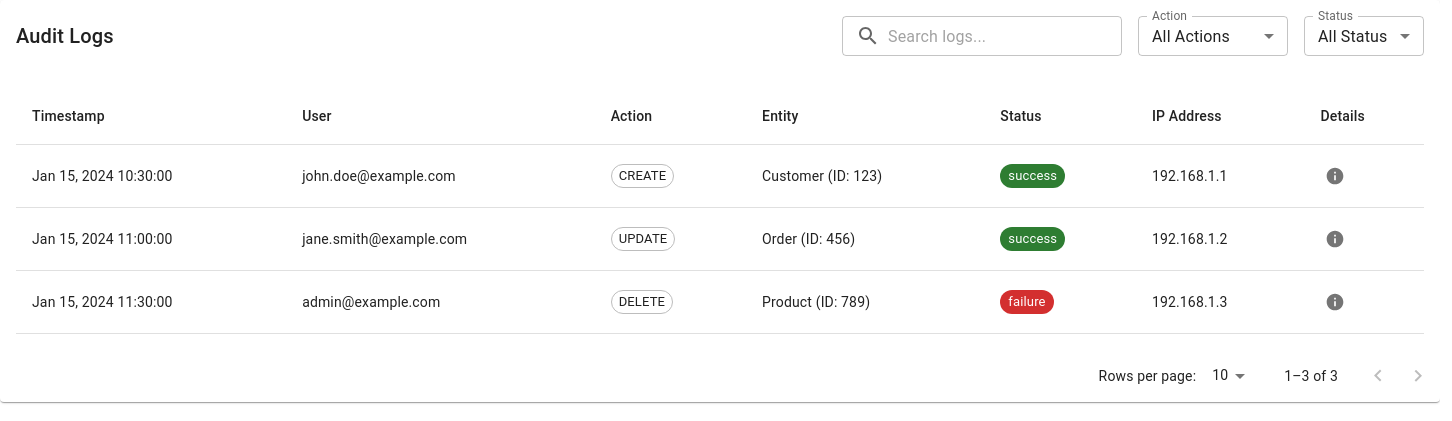
Test: AuditLogViewer › filters logs by search term
Type "john" into the field with placeholder "Search logs..." at (1005, 36), box [888,16,1122,56]
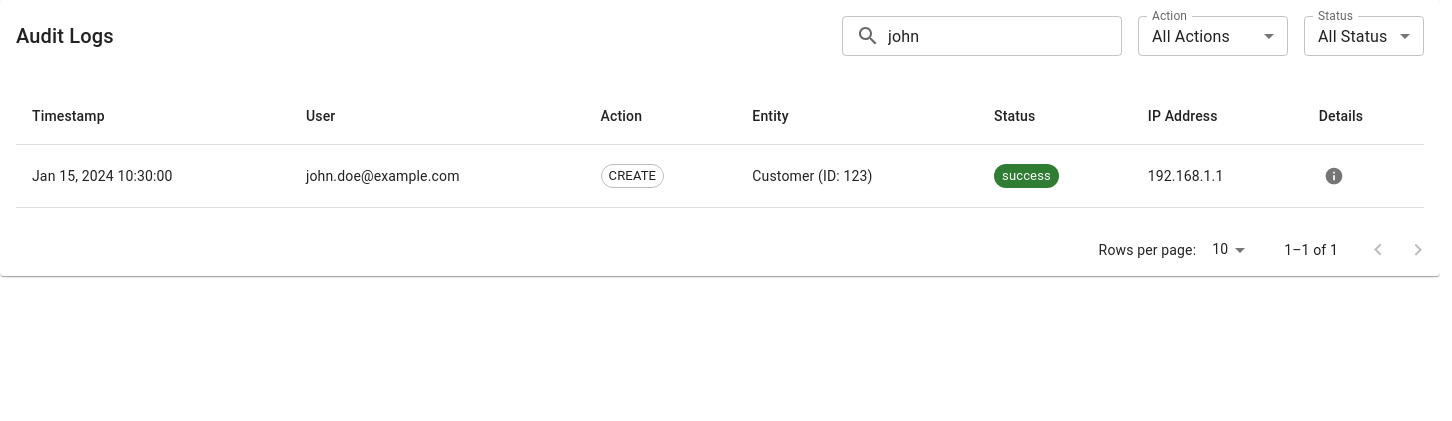
Expected: the text "john.doe@example.com" is shown, [290,145,585,208]
Result: the text "jane.smith@example.com" is gone
